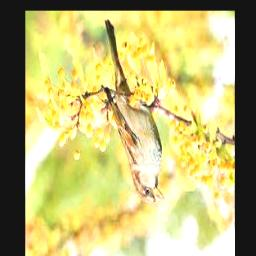Sparrow: (105, 19, 164, 205)
